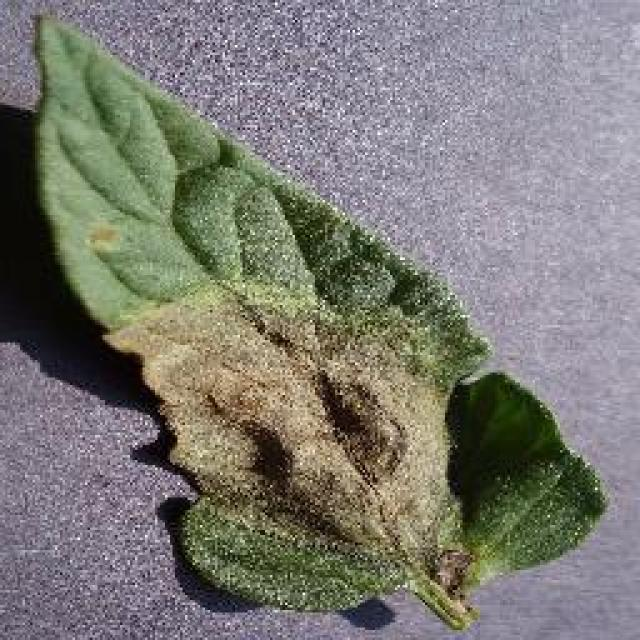Tomato Late Blight: (37, 232, 530, 530)
